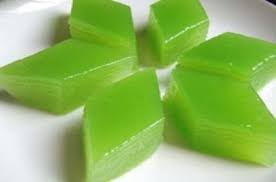kanomchan: (1, 34, 147, 118), (168, 61, 276, 171), (79, 66, 165, 182), (145, 1, 213, 72)
